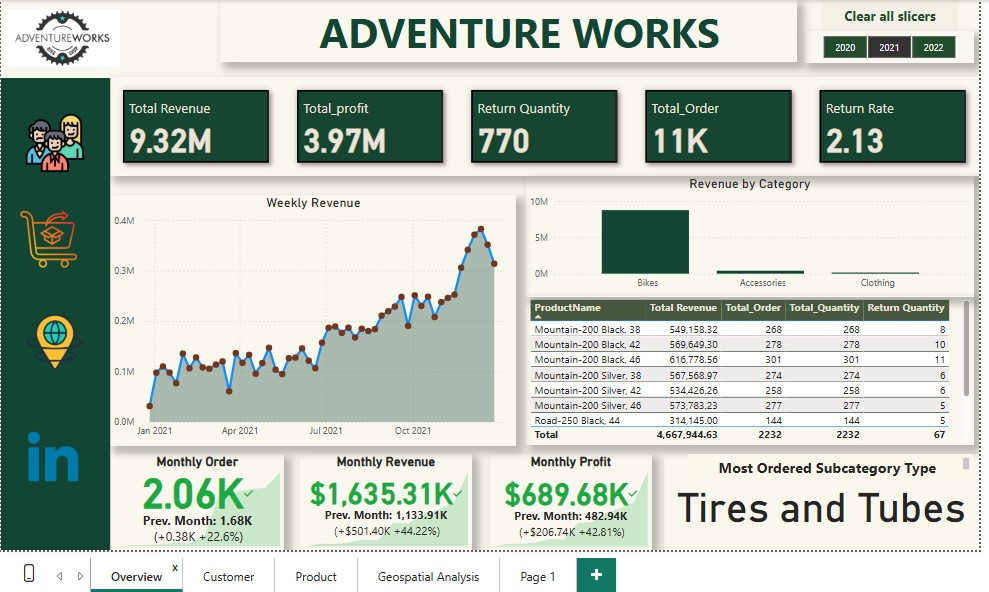

What the dashboard file says about the page in this screenshot:
{"tool":"powerbi","page":{"name":"Overview","canvas":[1280,720],"ordinal":0},"visuals":[{"type":"cardVisual","fields":{"Data":["Measure Table.Total Revenue","Sales Data (2020-2022).Total_profit","Returns Data.Total_Return","Sales Data (2020-2022).Total_Order","Measure Table.Return Rate"]},"box":[142.8,100.8,1137.2,129.3],"z":0},{"type":"group","id":"g1","title":"Group 1","box":[0,102.5,142.5,618.6],"z":0,"group":"g3"},{"type":"columnChart","title":"Revenue by Category","fields":{"Category":["Product Categories Lookup.CategoryName"],"Y":["Measure Table.Total Revenue"]},"box":[687,230.1,586.2,157.9],"z":1000},{"type":"image","box":[0,269.7,124.3,87.3],"z":1000,"group":"g3"},{"type":"lineChart","title":"Weekly Revenue","fields":{"Y":["Sales Data (2020-2022).Total Revenue"],"Category":["Calendar Lookup.Start of Week.Variation.Date Hierarchy.Year","Calendar Lookup.Start of Week.Variation.Date Hierarchy.Quarter","Calendar Lookup.Start of Week.Variation.Date Hierarchy.Month","Calendar Lookup.Start of Week.Variation.Date Hierarchy.Day"]},"box":[142.8,255.3,532.5,327.6],"z":2000},{"type":"image","box":[18.5,399,105.8,97.4],"z":2000,"group":"g3"},{"type":"textbox","box":[286.3,0,754.7,81],"z":3000},{"type":"textbox","box":[0,102.5,142.5,618.6],"z":3000,"group":"g1"},{"type":"image","box":[0,0,161.3,100.8],"z":4000},{"type":"tableEx","fields":{"Values":["Product Lookup.ProductName","Measure Table.Total Revenue","Measure Table.Total_Order","Measure Table.Total_Quantity","Returns Data.Return Quantity"]},"box":[687,388,586.2,194.9],"z":5000},{"type":"kpi","title":"Monthly Revenue","fields":{"Indicator":["Measure Table.Total Revenue"],"TrendLine":["Calendar Lookup.Start of Month"],"Goal":["Measure Table.Previous Month Revenue"]},"box":[391.4,594.6,225.1,126],"z":6000},{"type":"kpi","title":"Monthly Profit","fields":{"Indicator":["Measure Table.Total_profit"],"TrendLine":["Calendar Lookup.Start of Month"],"Goal":["Measure Table.Previous Month Profit"]},"box":[640,594.6,211.7,126],"z":7000},{"type":"kpi","title":"Monthly Order","fields":{"Indicator":["Measure Table.Total_Order"],"TrendLine":["Calendar Lookup.Start of Month"],"Goal":["Measure Table.Previous Month Order"]},"box":[142.8,594.6,228.5,126],"z":8000},{"type":"slicer","fields":{"Values":["Calendar Lookup.Date.Variation.Date Hierarchy.Year"]},"box":[1051.5,40.3,221.7,42],"z":9000},{"type":"group","id":"g2","title":"Group 2","box":[868.5,594.6,411.5,126],"z":10000},{"type":"group","id":"g3","title":"Group 3","box":[0,102.5,142.5,618.6],"z":11000,"group":"g4"},{"type":"card","fields":{"Values":["Min(Product Subcategories Lookup.SubcategoryName)"]},"box":[868.5,594.6,411.5,126],"z":11000,"group":"g2"},{"type":"image","box":[30.2,552.7,75.6,89],"z":11001,"group":"g4"},{"type":"actionButton","box":[1075.1,0,178.1,40.3],"z":11002},{"type":"group","id":"g4","title":"Group 4","box":[0,102.5,142.8,618.2],"z":11003},{"type":"textbox","box":[900.4,594.6,372.9,35.3],"z":12000,"group":"g2"},{"type":"image","box":[16.8,143.7,107.5,89],"z":12003,"group":"g1"}]}

Visuals, with their boxes on the page's 1280x720 design canvas (x1, y1, x2, y2). These are canvas units, not pixel positions in the 989x592 screenshot, which may show the page scaled, cropped or inside an application window:
cardVisual - Measure Table.Total Revenue x Sales Data (2020-2022).Total_profit: pyautogui.locateOnScreen(143, 101, 1280, 230)
"Group 1" group: pyautogui.locateOnScreen(0, 102, 142, 721)
"Revenue by Category" columnChart: pyautogui.locateOnScreen(687, 230, 1273, 388)
image: pyautogui.locateOnScreen(0, 270, 124, 357)
"Weekly Revenue" lineChart: pyautogui.locateOnScreen(143, 255, 675, 583)
image: pyautogui.locateOnScreen(18, 399, 124, 496)
textbox: pyautogui.locateOnScreen(286, 0, 1041, 81)
textbox: pyautogui.locateOnScreen(0, 102, 142, 721)
image: pyautogui.locateOnScreen(0, 0, 161, 101)
tableEx - Product Lookup.ProductName x Measure Table.Total Revenue: pyautogui.locateOnScreen(687, 388, 1273, 583)
"Monthly Revenue" kpi: pyautogui.locateOnScreen(391, 595, 616, 721)
"Monthly Profit" kpi: pyautogui.locateOnScreen(640, 595, 852, 721)
"Monthly Order" kpi: pyautogui.locateOnScreen(143, 595, 371, 721)
slicer - Calendar Lookup.Date.Variation.Date Hierarchy.Year: pyautogui.locateOnScreen(1052, 40, 1273, 82)
"Group 2" group: pyautogui.locateOnScreen(868, 595, 1280, 721)
"Group 3" group: pyautogui.locateOnScreen(0, 102, 142, 721)
card - Min(Product Subcategories Lookup.SubcategoryName): pyautogui.locateOnScreen(868, 595, 1280, 721)
image: pyautogui.locateOnScreen(30, 553, 106, 642)
actionButton: pyautogui.locateOnScreen(1075, 0, 1253, 40)
"Group 4" group: pyautogui.locateOnScreen(0, 102, 143, 721)
textbox: pyautogui.locateOnScreen(900, 595, 1273, 630)
image: pyautogui.locateOnScreen(17, 144, 124, 233)
